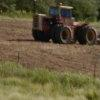Tractor: (24, 1, 100, 51)
